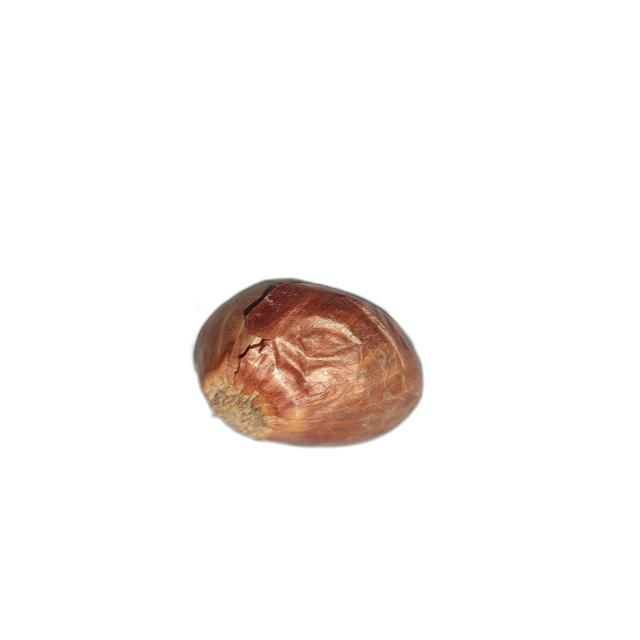onion: (194, 280, 423, 448)
